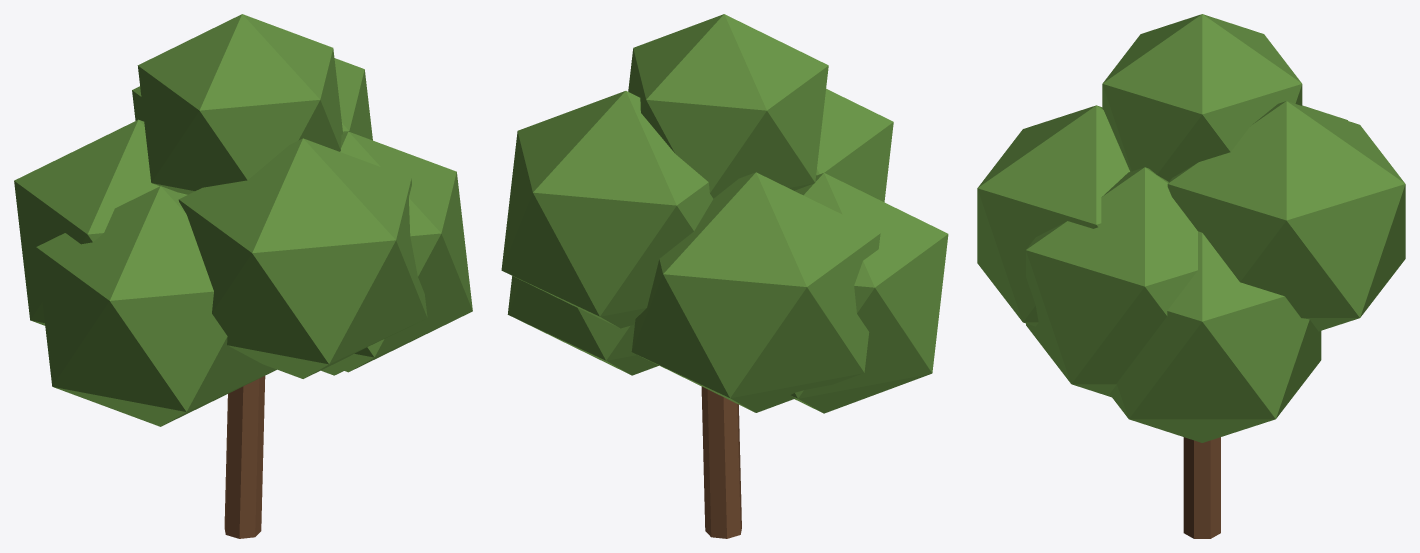
File: tree_01.glb
3 views of the same model, side by side, from view 1: azimuth 30°, elevation 25°; view 2: azimuth 150°, elevation 25°; view 3: azimuth 270°, elevation 25° (orthographic).
Visible parts, largest first — view 1: tree_01; view 2: tree_01; view 3: tree_01.
Part boxes in pixels (box(x1,y1,x2,y2)): tree_01: box(14, 14, 472, 538); tree_01: box(501, 14, 948, 538); tree_01: box(977, 14, 1405, 538).
Size of the model in its own units: 3.63 by 4.49 by 3.37.
